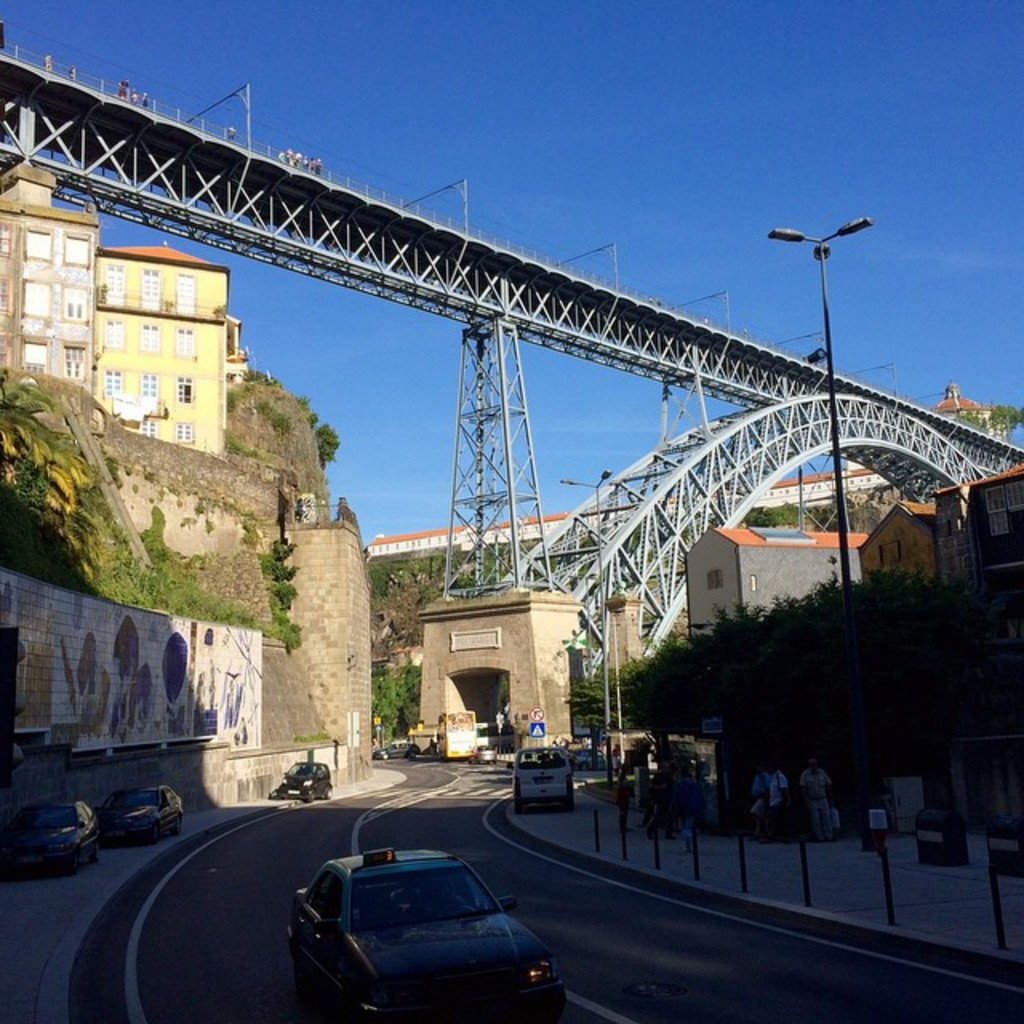Car: (283, 844, 571, 1008), (3, 784, 108, 896), (500, 737, 577, 827), (102, 779, 193, 851), (265, 752, 339, 806), (569, 743, 620, 806), (366, 734, 420, 771)
